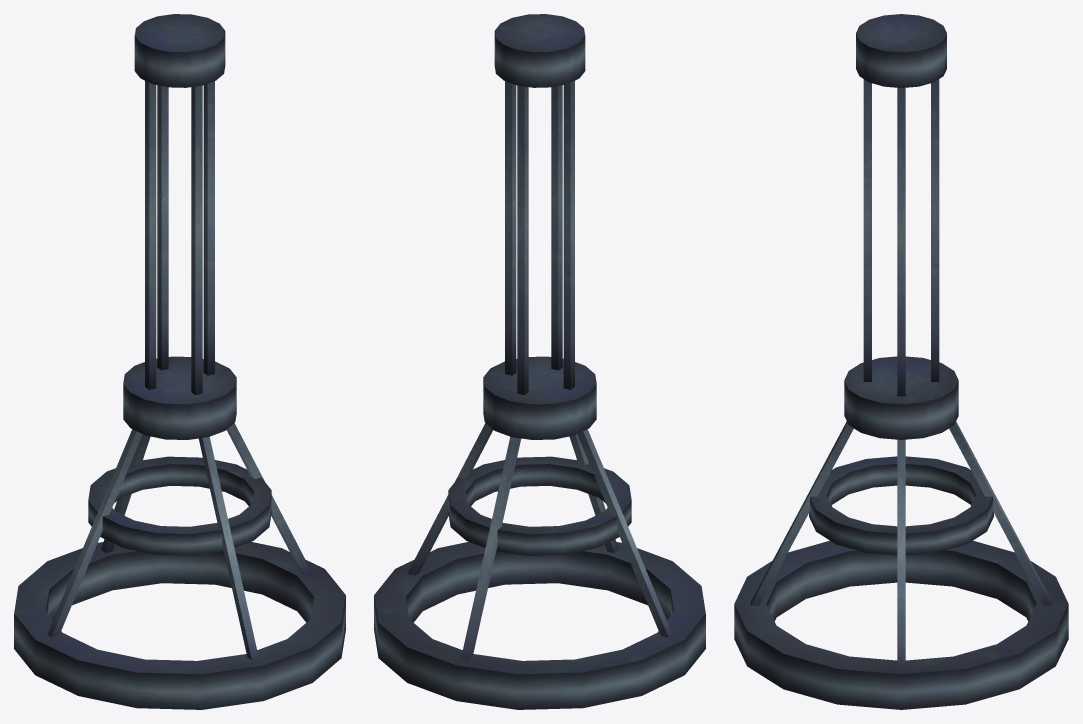
The model's file is SM_SYD_HangingLightFixture_01.fbx.
The picture shows the model from 3 angles, left to right: view 1: azimuth 30°, elevation 25°; view 2: azimuth 150°, elevation 25°; view 3: azimuth 270°, elevation 25°; orthographic projection.
Parts seen in each view (by area): view 1: SM_SYD_HangingLightFixture_01; view 2: SM_SYD_HangingLightFixture_01; view 3: SM_SYD_HangingLightFixture_01.
Part boxes in pixels (x1=…): SM_SYD_HangingLightFixture_01: x1=14, y1=14, x2=345, y2=709; SM_SYD_HangingLightFixture_01: x1=374, y1=14, x2=705, y2=709; SM_SYD_HangingLightFixture_01: x1=734, y1=14, x2=1068, y2=709.
Size of the model in its own units: 255 by 510 by 255.
